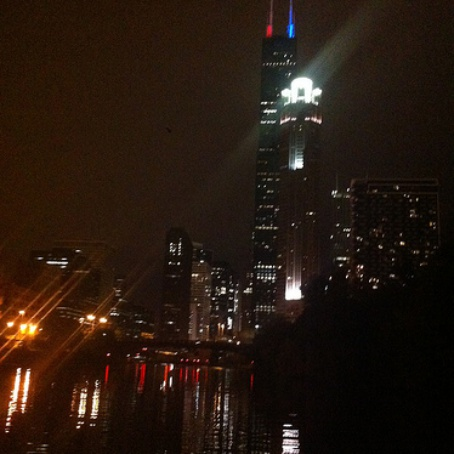building: (249, 9, 322, 326), (1, 235, 119, 342), (336, 177, 438, 295), (156, 230, 197, 346), (195, 240, 238, 348)
river: (1, 359, 290, 454)
sky: (1, 1, 454, 211)
